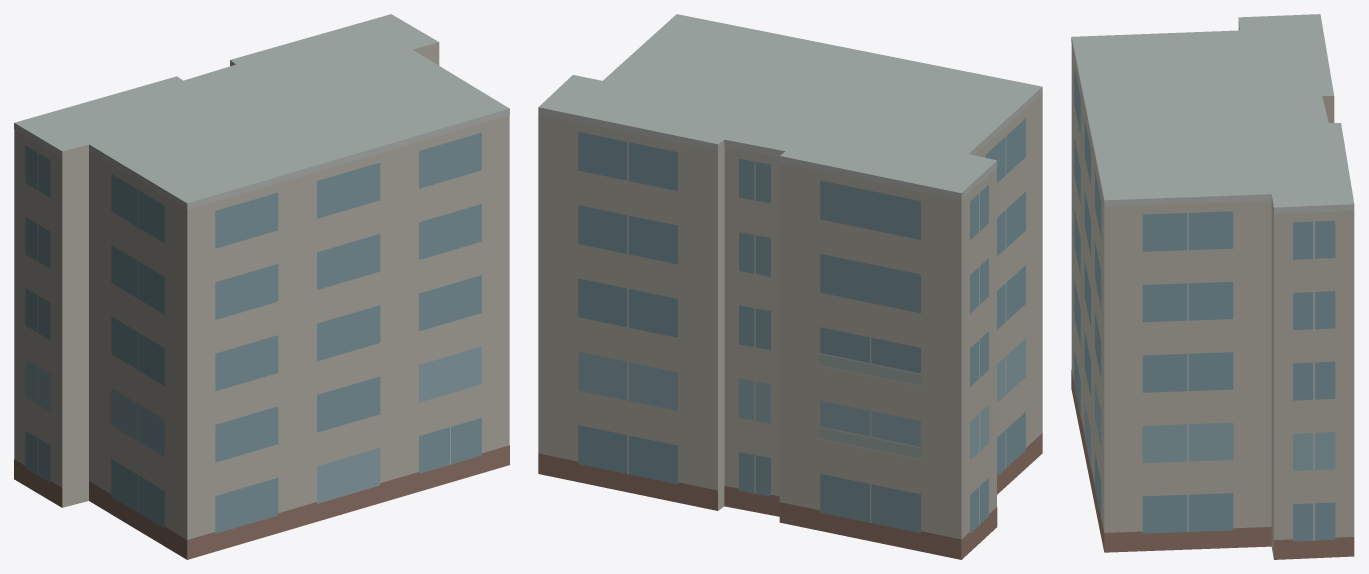
The model's file is survey-upis-32725685.glb.
3 views of the same model, side by side, from view 1: azimuth 30°, elevation 25°; view 2: azimuth 150°, elevation 25°; view 3: azimuth 270°, elevation 25° (orthographic). The views are drawn at different scales.
Parts seen in each view (by area): view 1: survey-upis-32725685.tmp; view 2: survey-upis-32725685.tmp; view 3: survey-upis-32725685.tmp.
Boxes of the visible parts, x1,y1,x2,y2 form: survey-upis-32725685.tmp: (14, 14, 509, 559); survey-upis-32725685.tmp: (538, 14, 1042, 559); survey-upis-32725685.tmp: (1071, 14, 1354, 559).
Size of the model in its own units: 15.61 by 13.24 by 9.64.
